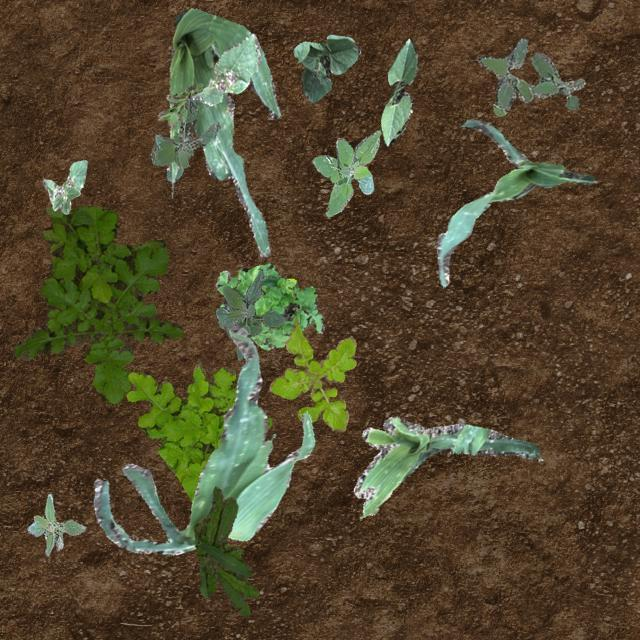crop: (92, 324, 314, 554), (166, 7, 280, 256), (436, 117, 596, 286), (352, 416, 540, 516), (214, 270, 284, 360), (190, 32, 260, 104), (292, 34, 360, 102), (380, 38, 418, 144), (42, 158, 86, 212)
weed: (12, 205, 182, 402), (126, 362, 270, 500), (268, 316, 354, 430), (214, 262, 324, 348), (192, 486, 258, 616), (476, 37, 584, 114), (312, 130, 379, 216), (150, 98, 220, 166), (26, 492, 84, 554), (156, 82, 202, 126)
